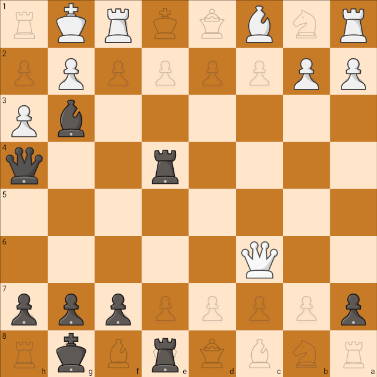bb: (51, 97, 91, 140)
bk: (52, 333, 93, 374)
bp: (4, 287, 44, 328), (100, 291, 139, 330), (52, 289, 90, 328), (335, 287, 372, 327)
bq: (2, 144, 44, 187)
br: (144, 334, 187, 376), (147, 145, 183, 186)
wb: (239, 2, 280, 44)
wk: (50, 0, 92, 46)
wp: (50, 49, 90, 92), (3, 99, 44, 140), (336, 51, 373, 92), (292, 54, 321, 92)
wq: (239, 239, 281, 280)
wr: (334, 5, 371, 45), (103, 3, 137, 46)
